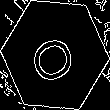O_NE: (26, 24, 84, 86)
